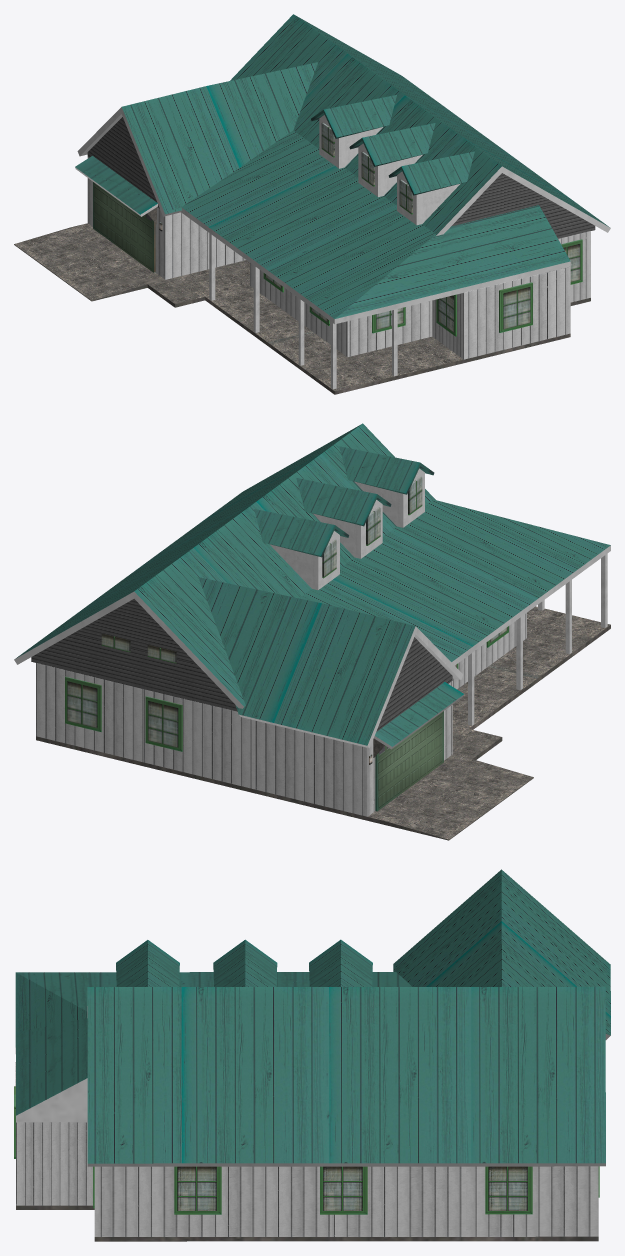
Rendered from house_02__9_.FBX.
The picture shows the model from 3 angles, top to bottom: view 1: azimuth 30°, elevation 25°; view 2: azimuth 150°, elevation 25°; view 3: azimuth 270°, elevation 25°; orthographic projection. The views are drawn at different scales.
Parts seen in each view (by area): view 1: house_02__9_; view 2: house_02__9_; view 3: house_02__9_.
Boxes of the visible parts, <box> form: house_02__9_: <box>14,14,610,394</box>; house_02__9_: <box>14,423,610,840</box>; house_02__9_: <box>14,869,610,1241</box>.
Size of the model in its own units: 208 by 81.37 by 220.
